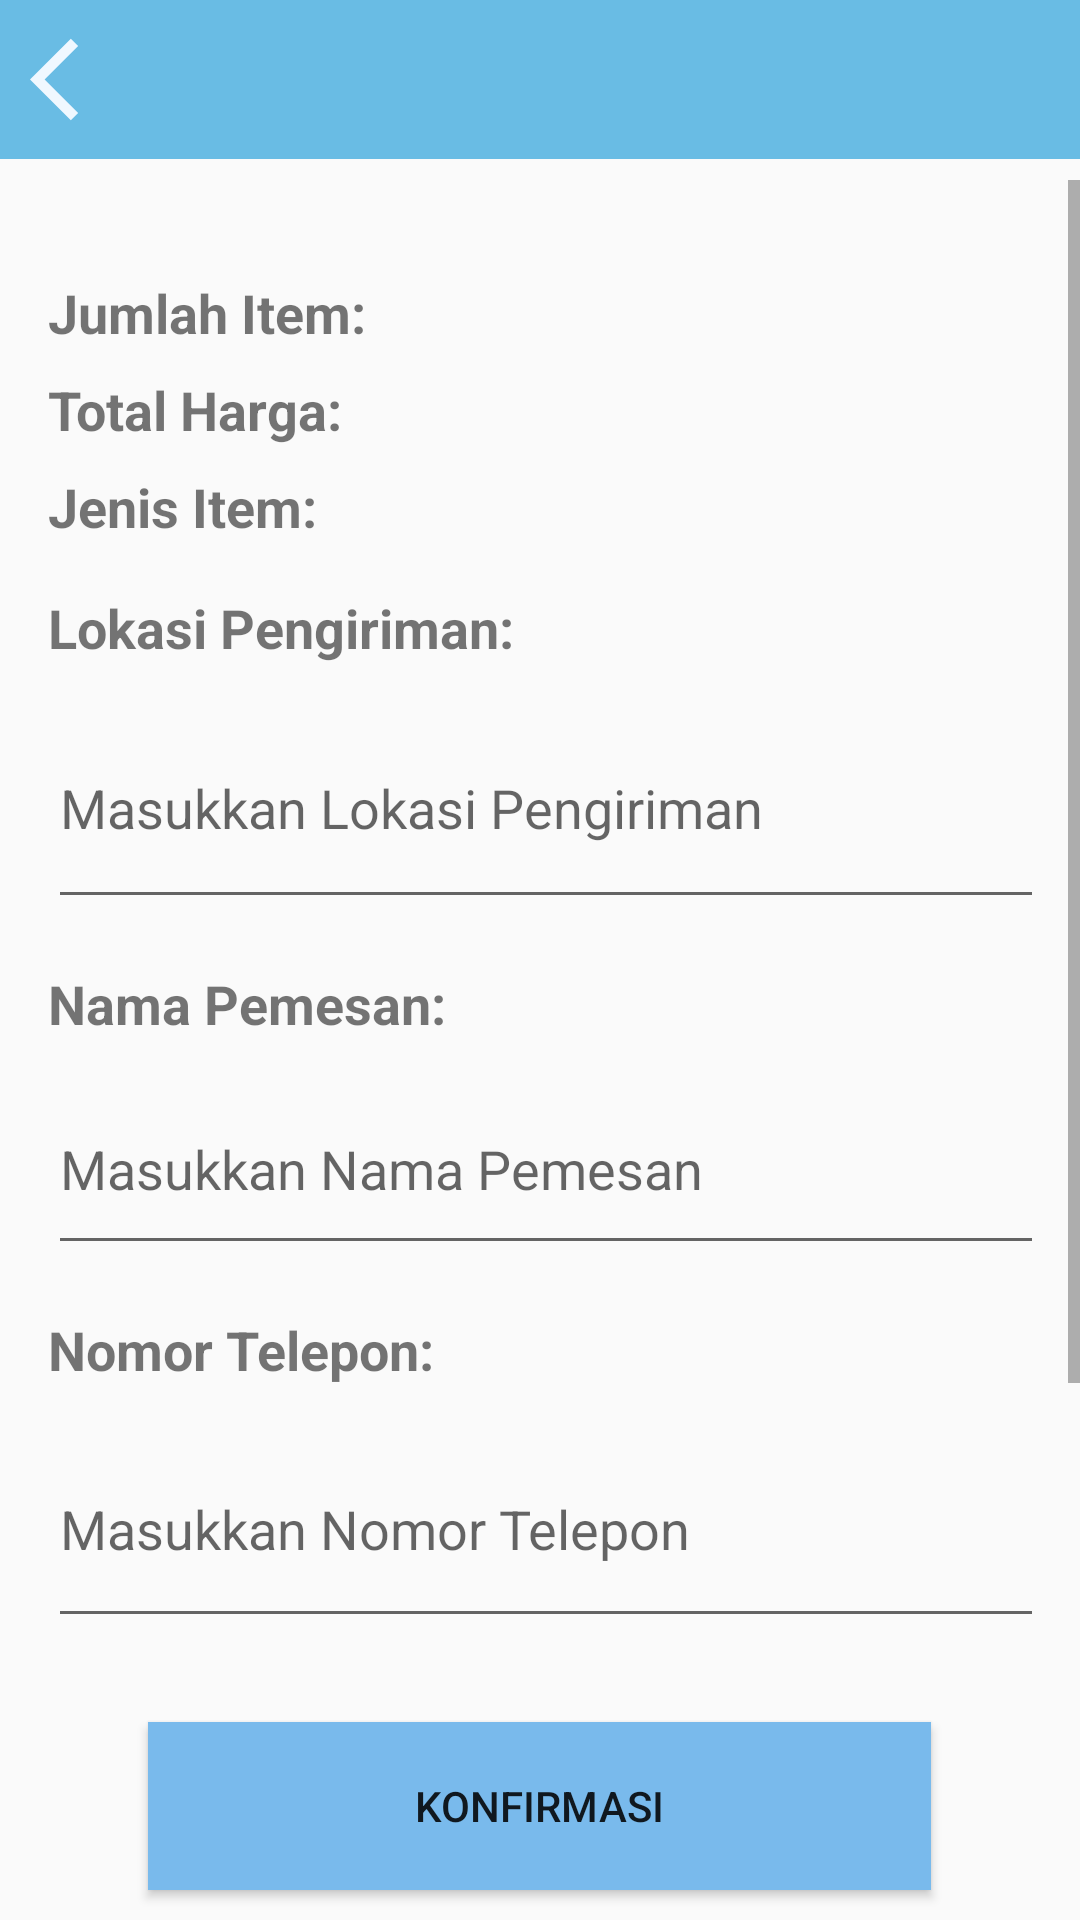

Icons on this 1080px x 1920px Android screen, each with its box as (x1, y1, x2, y2):
arrow back: (30, 39, 78, 120)
